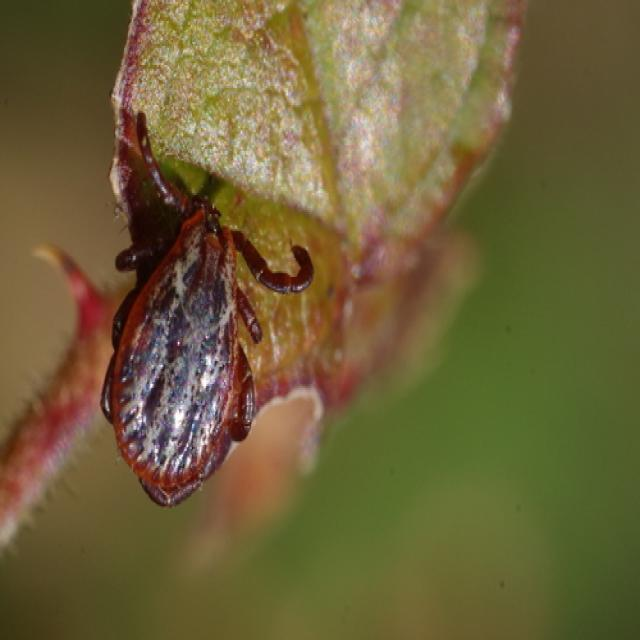Dermacentor Reticulatus-M: (100, 111, 315, 506)
